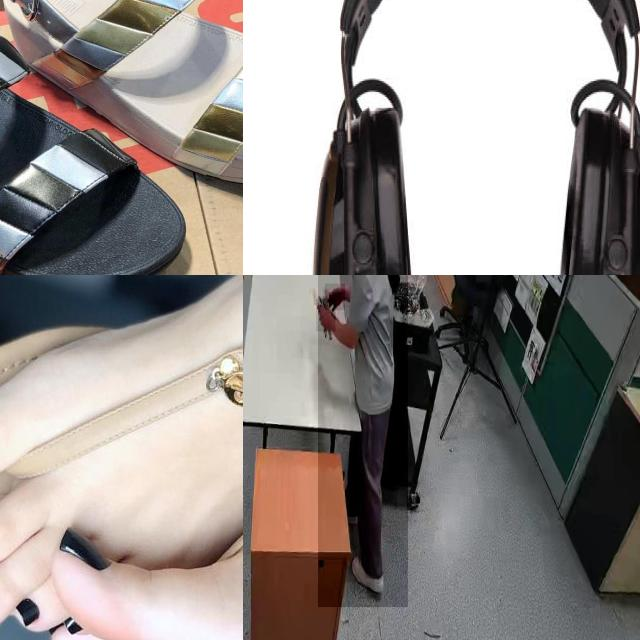Barefoots: (0, 275, 243, 640)
Ear-protection: (297, 0, 640, 275)
Sandals: (0, 0, 195, 275), (0, 0, 243, 196)
hand_noglove: (316, 298, 336, 332), (325, 284, 345, 311)
person: (317, 275, 408, 608)
shoes: (348, 549, 394, 599)
